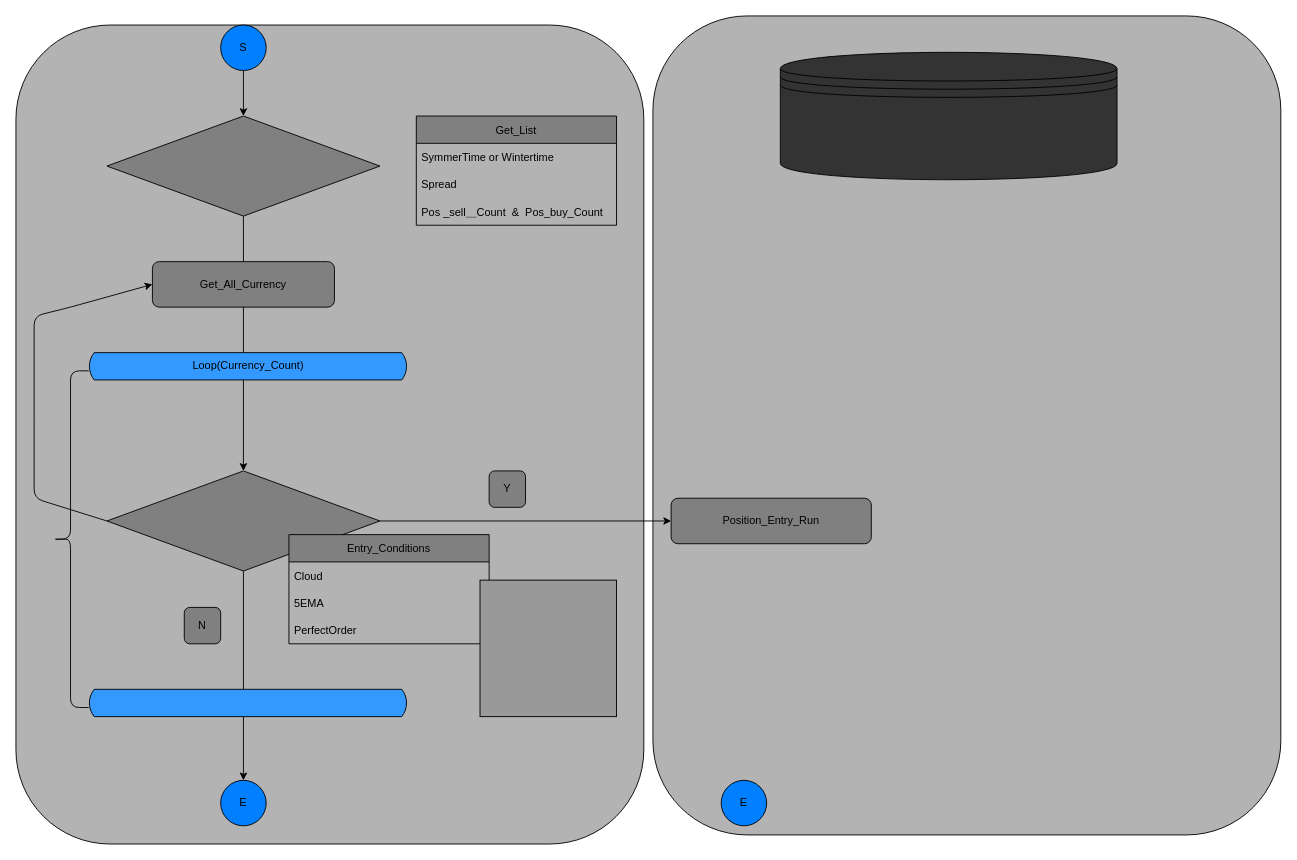
Some shapes in this 1297 by 860 pixel diagram are drawn without their labels. Each missing label, with the centre of its shape:
"Entry_Conditions_Check" goes at (243,520).
"Marcket_Open_Check & Position_Count_Check" goes at (243,165).
"Tranzaction_DB" goes at (948,115).
"USD/JPY GBP/USD . . . . . all" goes at (548,648).
